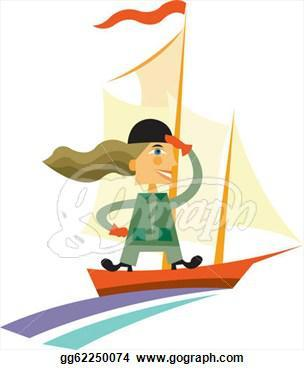boat: (51, 6, 264, 301)
person: (90, 119, 209, 267)
